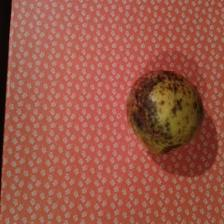Mango Rotten: (127, 72, 197, 152)
